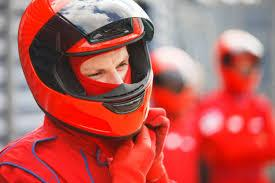Helmet: (19, 0, 153, 138)
